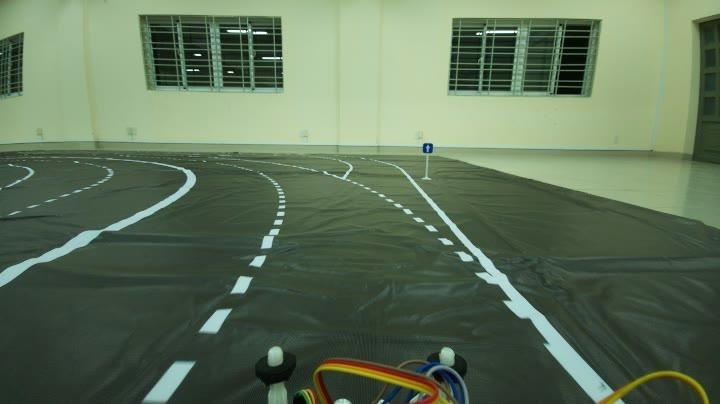onewayroad: (420, 139, 438, 155)
